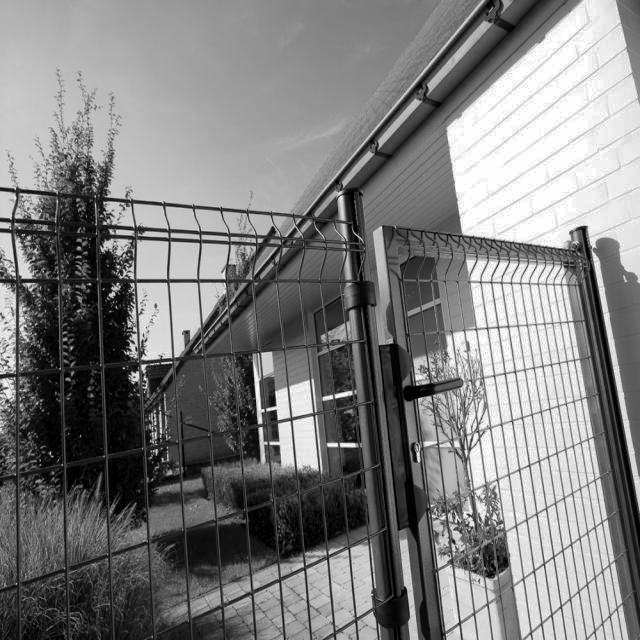fences: (5, 184, 640, 639)
